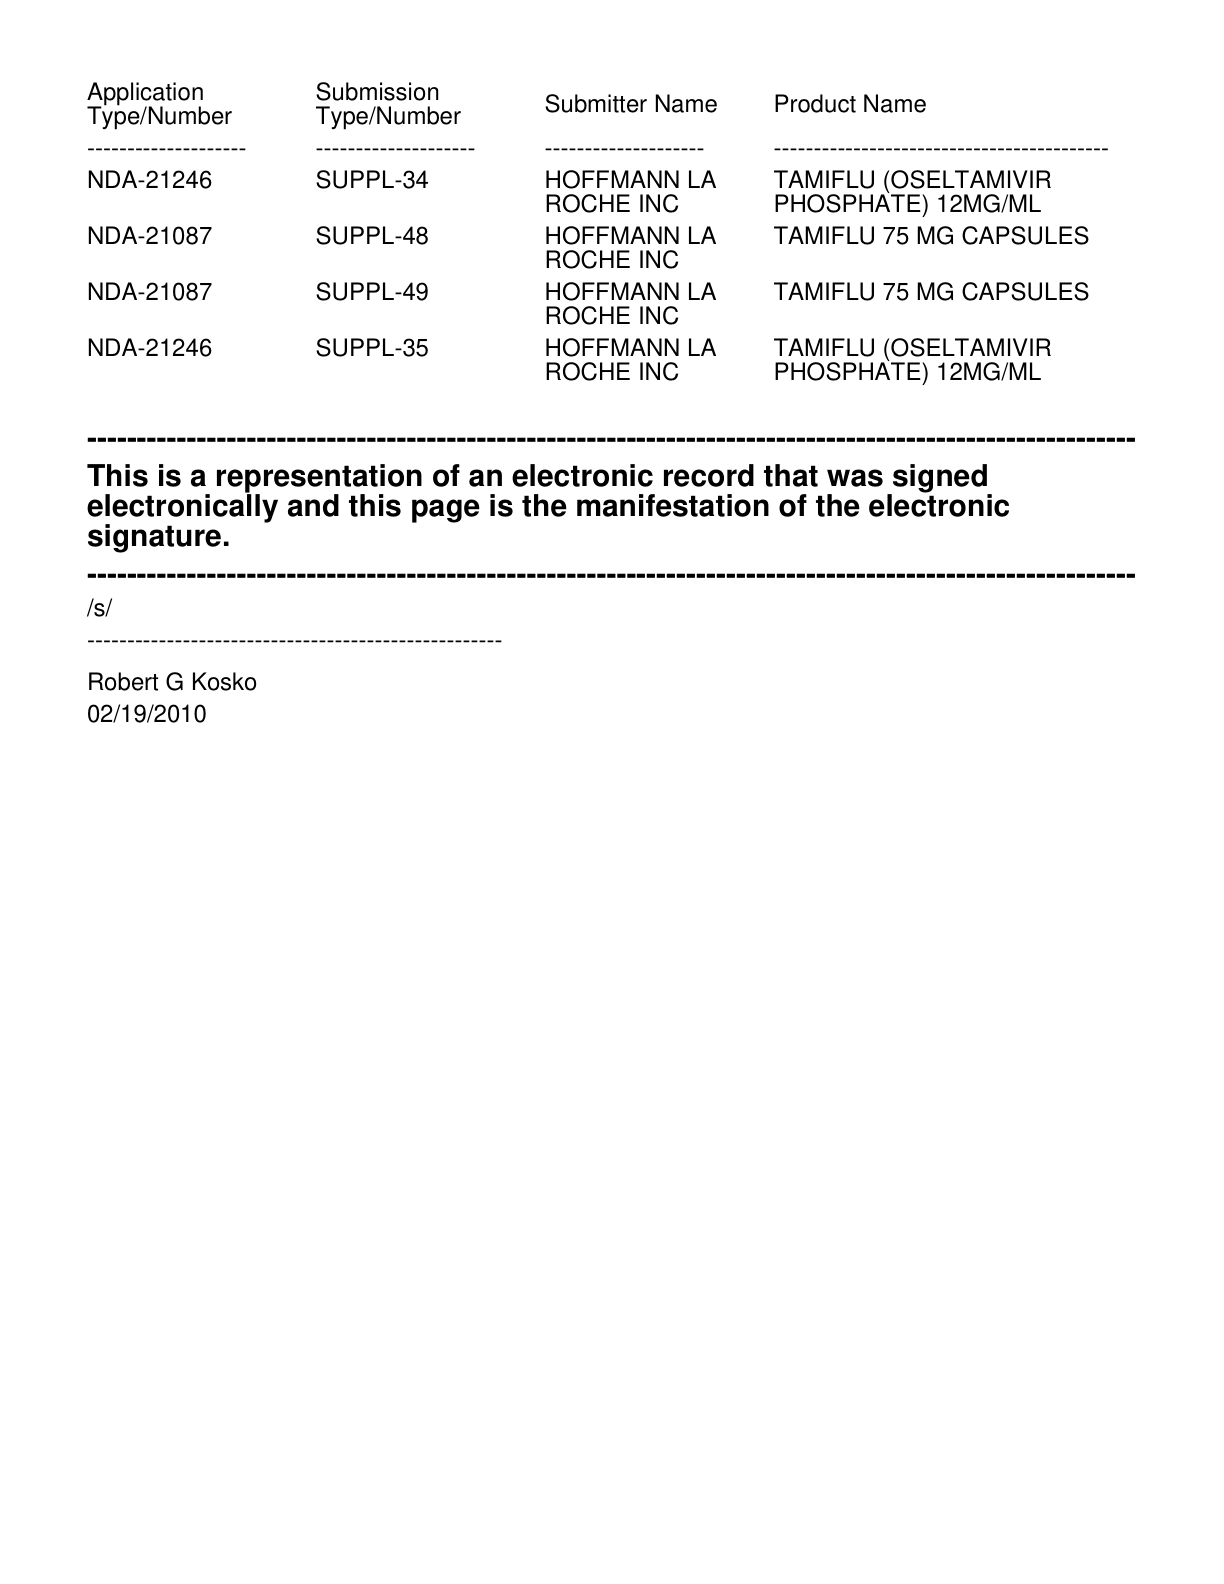nolines: (84, 80, 1108, 382)
